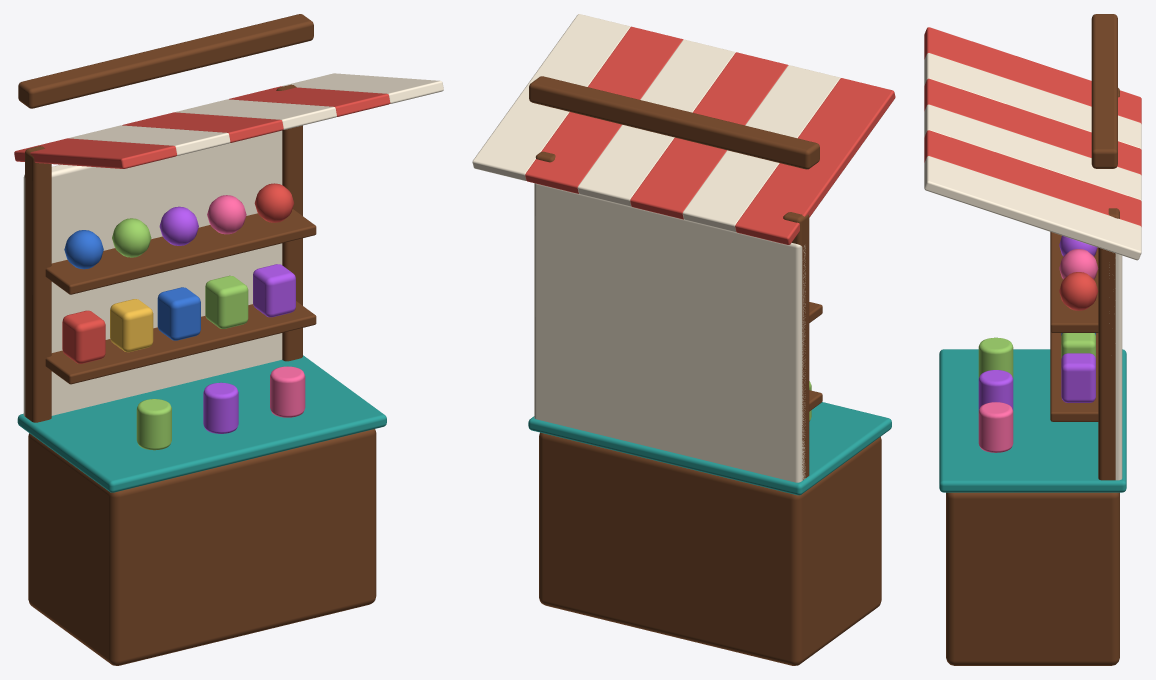
Rendered from gift_kiosk.glb.
3 views of the same model, side by side, from view 1: azimuth 30°, elevation 25°; view 2: azimuth 150°, elevation 25°; view 3: azimuth 270°, elevation 25° (orthographic).
Parts seen in each view (by area): view 1: gift_kiosk; view 2: gift_kiosk; view 3: gift_kiosk.
Boxes of the visible parts, x1=… form: gift_kiosk: x1=14, y1=14, x2=443, y2=665; gift_kiosk: x1=472, y1=14, x2=895, y2=665; gift_kiosk: x1=924, y1=14, x2=1141, y2=665.
Size of the model in its own units: 1.73 by 2.65 by 0.9975.
